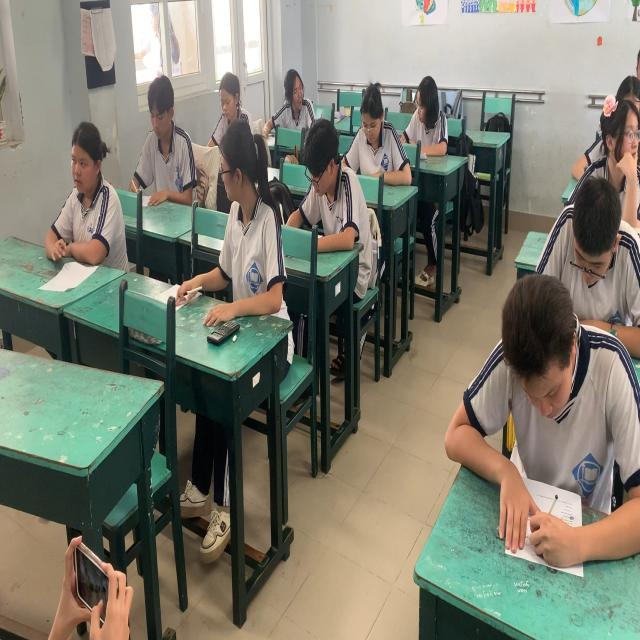cheating: (206, 120, 285, 312), (264, 61, 308, 120)
not_cheating: (453, 272, 640, 558), (554, 176, 640, 341), (48, 117, 120, 256), (289, 116, 359, 242), (135, 74, 198, 200), (344, 80, 411, 180), (586, 94, 640, 199), (400, 74, 452, 153), (208, 68, 238, 124)
